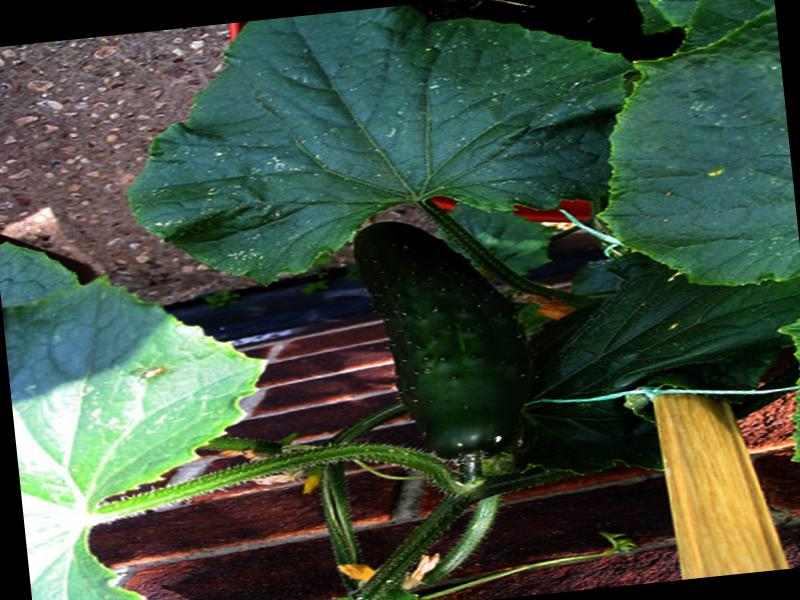Cucumber: (346, 208, 539, 467)
